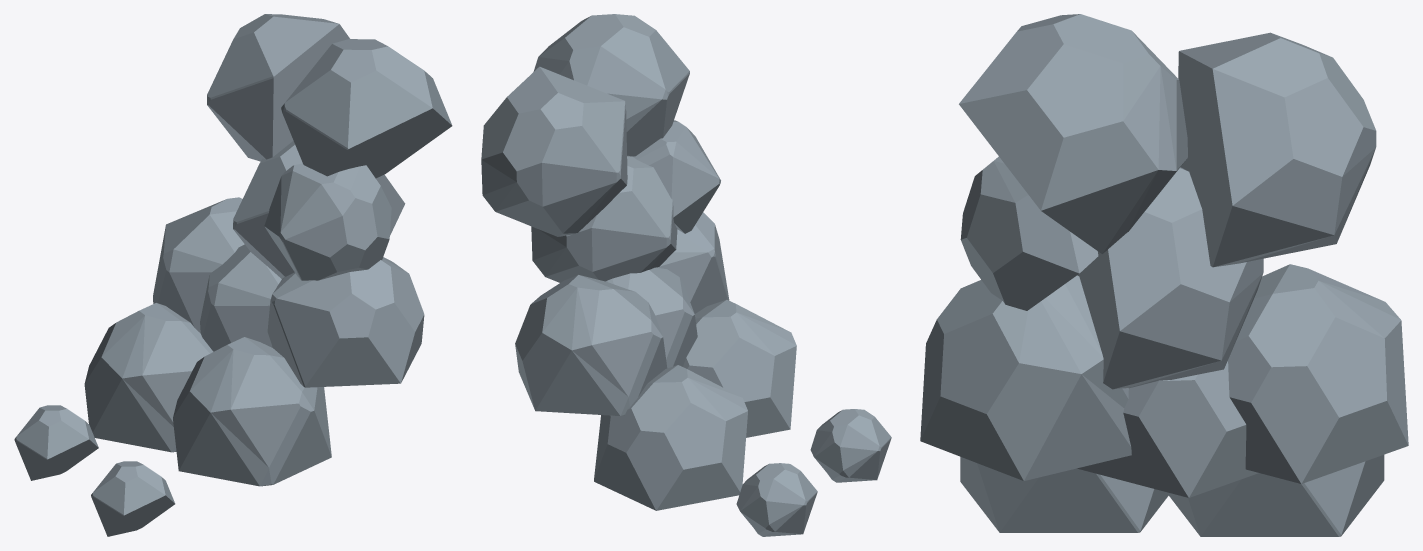
Rendered from caillou.obj.
3 views of the same model, side by side, from view 1: azimuth 30°, elevation 25°; view 2: azimuth 150°, elevation 25°; view 3: azimuth 270°, elevation 25° (orthographic). The views are drawn at different scales.
Parts seen in each view (by area): view 1: Rock_qui_bouche; view 2: Rock_qui_bouche; view 3: Rock_qui_bouche.
Part boxes in pixels (bbox=[...]): Rock_qui_bouche: bbox=[14, 14, 452, 536]; Rock_qui_bouche: bbox=[481, 14, 891, 536]; Rock_qui_bouche: bbox=[920, 14, 1408, 536].
Size of the model in its own units: 9.27 by 10.66 by 7.65.
Materials: 1 (1 with a texture image).
